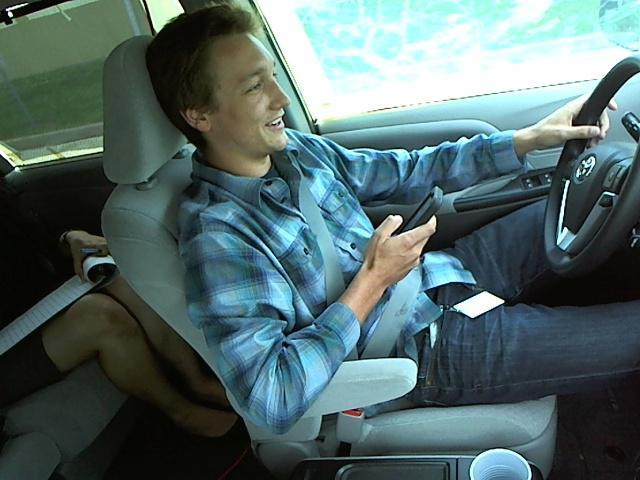PhoneUse: (391, 183, 442, 256)
